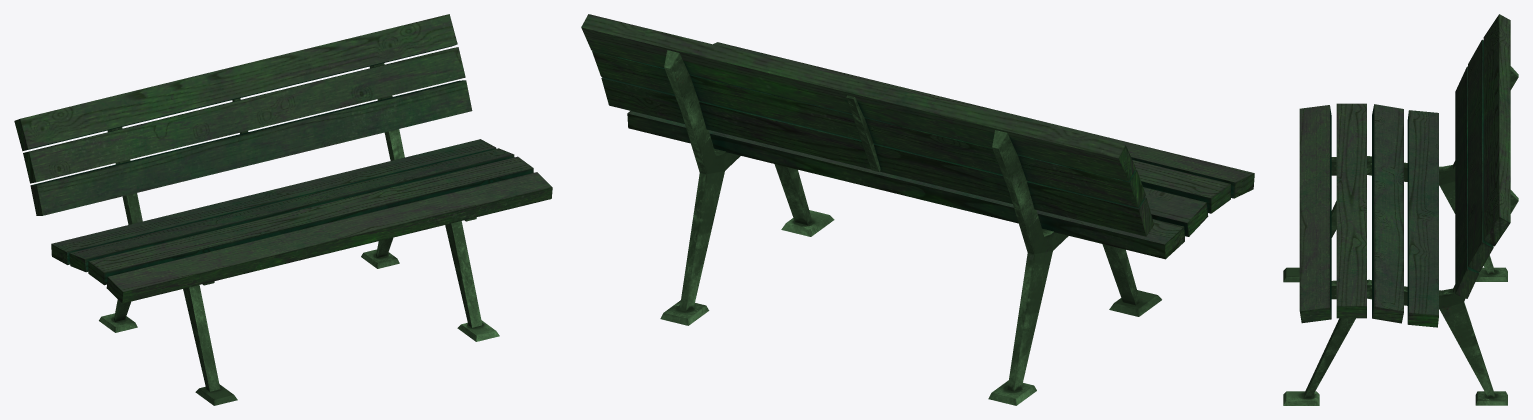
Rendered from chair_01.fbx.
The picture shows the model from 3 angles, left to right: view 1: azimuth 30°, elevation 25°; view 2: azimuth 150°, elevation 25°; view 3: azimuth 270°, elevation 25°; orthographic projection. The views are drawn at different scales.
Parts seen in each view (by area): view 1: chair_01; view 2: chair_01; view 3: chair_01.
Part boxes in pixels (x1=…): chair_01: x1=14, y1=14, x2=552, y2=405; chair_01: x1=581, y1=14, x2=1254, y2=405; chair_01: x1=1283, y1=14, x2=1518, y2=405.
Size of the model in its own units: 13.14 by 6.59 by 6.45.
Materials: 1 (1 with a texture image).
